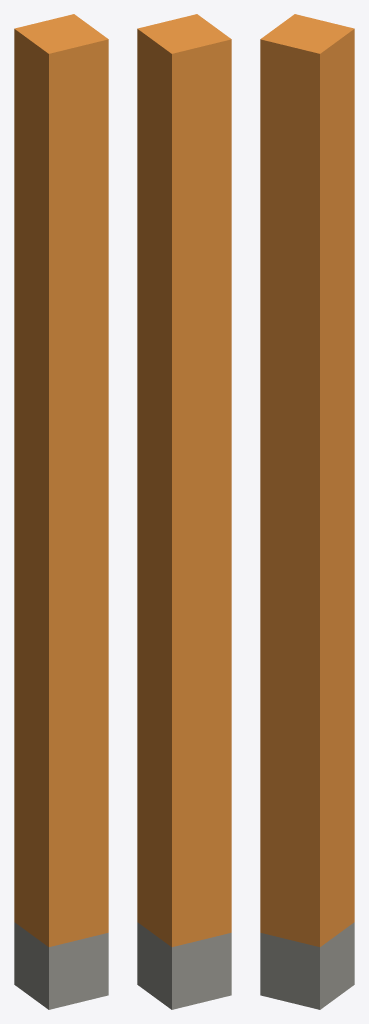
The model's file is lib_corner.glb.
The picture shows the model from 3 angles, left to right: view 1: azimuth 30°, elevation 25°; view 2: azimuth 210°, elevation 25°; view 3: azimuth 330°, elevation 25°; orthographic projection.
Visible parts, largest first — view 1: pier; view 2: pier; view 3: pier.
Part boxes in pixels (<box>): pier: <box>14,14,108,1009</box>; pier: <box>137,14,231,1009</box>; pier: <box>260,14,354,1009</box>.
Bounding box in the file's own units: 0.4 × 6.1 × 0.4.
